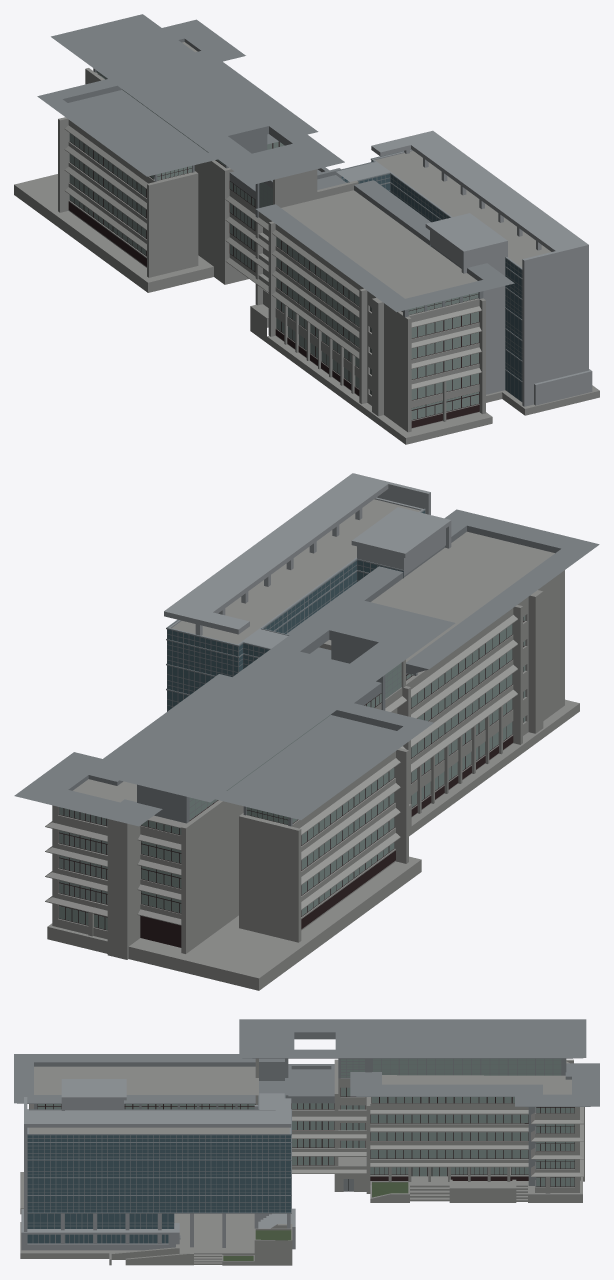
The model's file is 06_명신관.FBX.
The picture shows the model from 3 angles, top to bottom: view 1: azimuth 30°, elevation 25°; view 2: azimuth 150°, elevation 25°; view 3: azimuth 270°, elevation 25°; orthographic projection. The views are drawn at different scales.
Visible parts, largest first — view 1: 06_명신관; view 2: 06_명신관; view 3: 06_명신관.
Part boxes in pixels (x1=…): 06_명신관: x1=14, y1=14, x2=599, y2=444; 06_명신관: x1=14, y1=473, x2=599, y2=990; 06_명신관: x1=14, y1=1019, x2=599, y2=1265.
Size of the model in its own units: 217 by 128 by 460.
